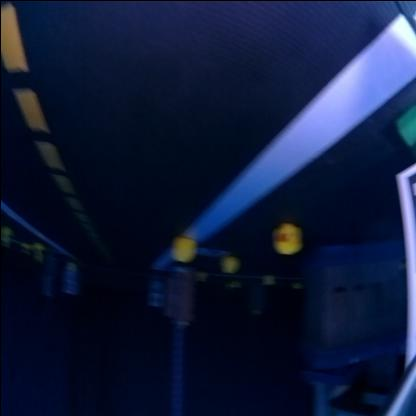Duckie: (274, 222, 298, 256), (172, 238, 194, 260), (222, 258, 234, 274)
